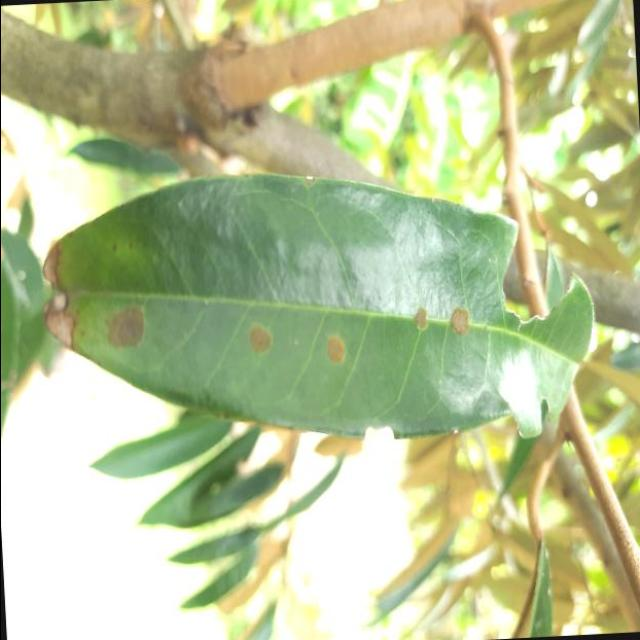Algal Leaf Spot: (27, 160, 604, 468)
